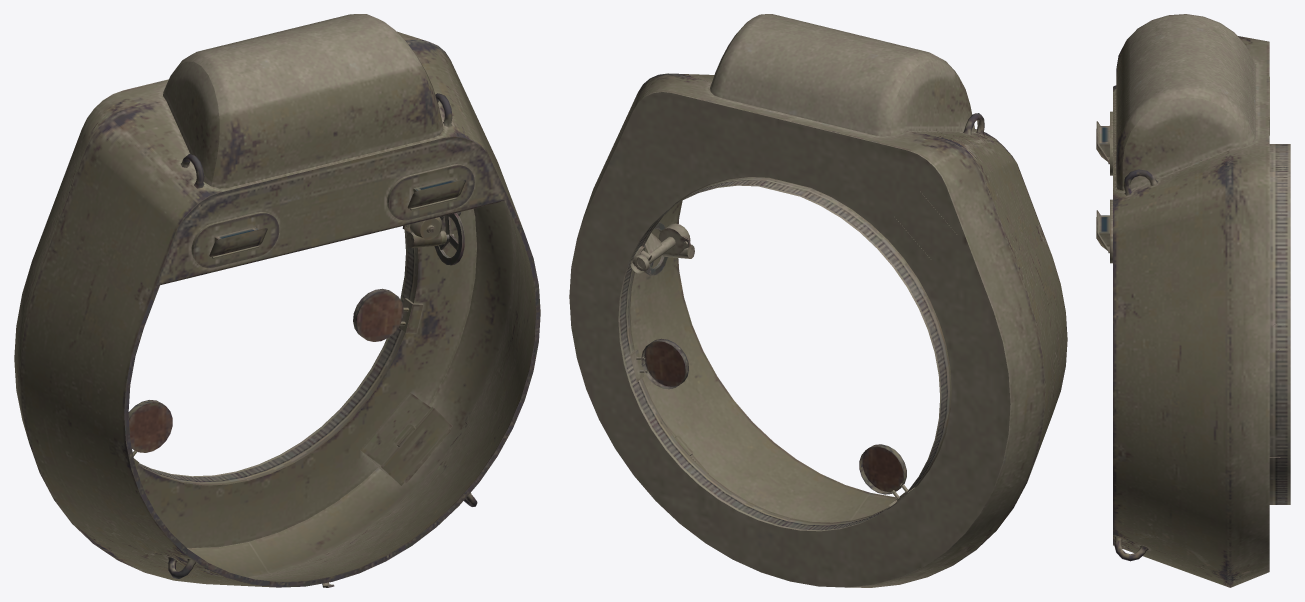
Rendered from Turret_02.glb.
3 renders of one model, left to right at view 1: azimuth 30°, elevation 25°; view 2: azimuth 150°, elevation 25°; view 3: azimuth 270°, elevation 25°, orthographic. The views are drawn at different scales.
Visible parts, largest first — view 1: set_0_group_0; view 2: set_0_group_0; view 3: set_0_group_0.
Part boxes in pixels (<box>): set_0_group_0: <box>14,14,540,587</box>; set_0_group_0: <box>569,14,1067,587</box>; set_0_group_0: <box>1096,14,1290,587</box>.
Bounding box in the file's own units: 1.94 × 2.08 × 0.7146.
Materials: 1 (1 with a texture image).
